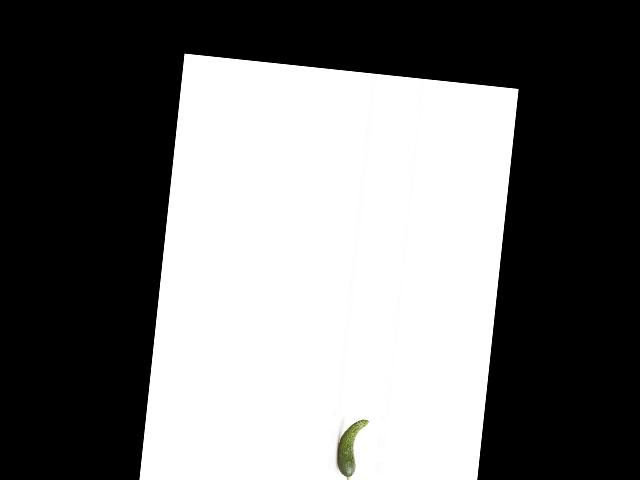cucumber: (334, 417, 368, 480)
